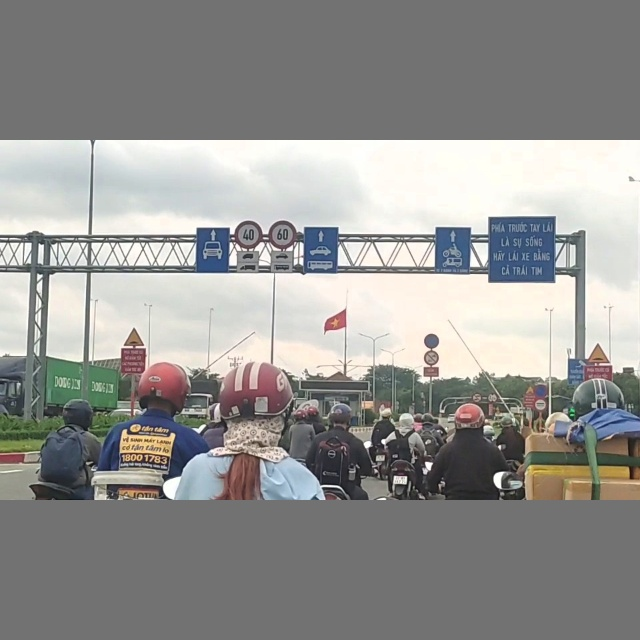Camera: (568, 358, 585, 385)
P.107: (487, 393, 498, 404), (473, 393, 483, 403)
P.111: (424, 350, 440, 365)
P.127*40: (234, 220, 263, 248)
P.127*60: (269, 221, 297, 249)
P.129: (535, 399, 547, 411)
P.130: (424, 333, 439, 349)
P.131a: (535, 385, 548, 397)
W.221b: (587, 343, 611, 363), (124, 327, 144, 346), (524, 385, 534, 395)
